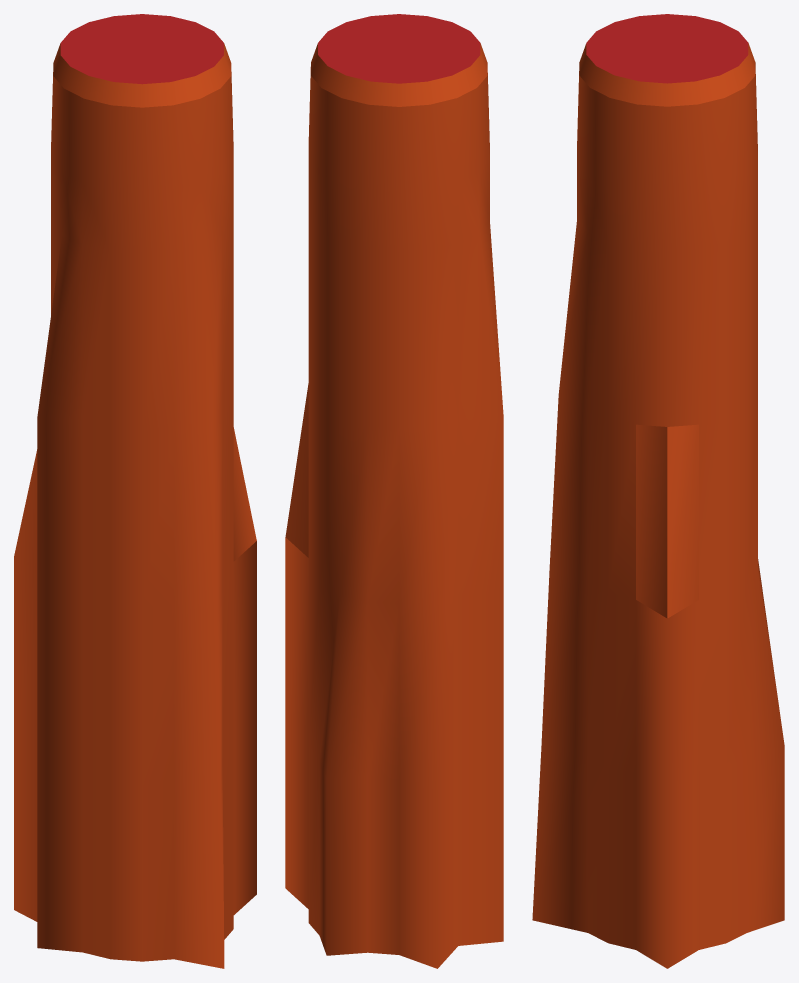
File: Tree Stump 7.fbx
The picture shows the model from 3 angles, left to right: view 1: azimuth 30°, elevation 25°; view 2: azimuth 150°, elevation 25°; view 3: azimuth 270°, elevation 25°; orthographic projection.
Parts seen in each view (by area): view 1: Tree Stump 7; view 2: Tree Stump 7; view 3: Tree Stump 7.
Part boxes in pixels (x1,y1,x2,y2): Tree Stump 7: [14, 14, 256, 968]; Tree Stump 7: [285, 14, 503, 968]; Tree Stump 7: [532, 14, 784, 968].
Bounding box in the file's own units: 26.64 × 101 × 26.75.
2 materials, 2 textured.
